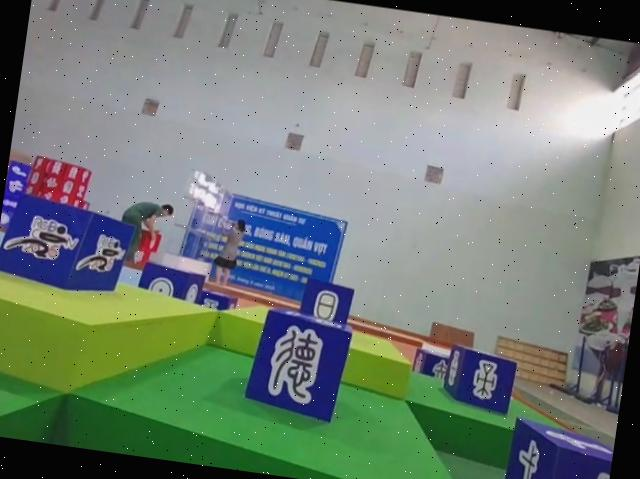R1 Blue: (0, 190, 134, 298)
R2 Fake Blue: (244, 306, 357, 427), (300, 276, 357, 325), (410, 345, 449, 377)
R2 Real Blue: (495, 416, 616, 479), (441, 345, 520, 418), (138, 262, 209, 307)
